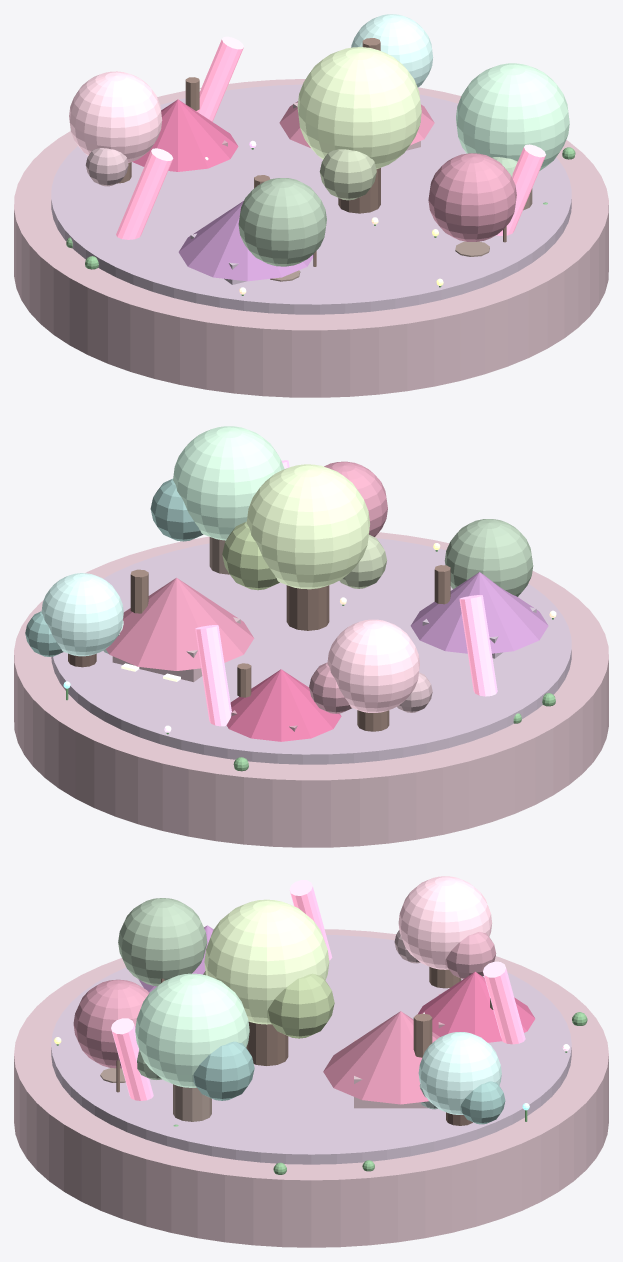
File: 02_zuckerwald.glb
3 views of the same model, one above another, from view 1: azimuth 30°, elevation 25°; view 2: azimuth 150°, elevation 25°; view 3: azimuth 270°, elevation 25° (orthographic).
Visible parts, largest first — view 1: IslandBase, GroundLayer, TreeCrown.002, TreeCrown, TreeCrown.001, Balloon, Balloon.001, HouseRoof.001, HouseRoof.002, TreeCrown.003, TreeCrown3.002, CandyCane1 (+5 smaller); view 2: IslandBase, GroundLayer, TreeCrown.002, TreeCrown, HouseRoof, TreeCrown.001, HouseRoof.001, TreeCrown.003, HouseRoof.002, Balloon.001, CandyCane1, CandyCane0 (+12 smaller); view 3: IslandBase, GroundLayer, TreeCrown.002, TreeCrown, HouseRoof, TreeCrown.001, Balloon.001, TreeCrown.003, Balloon, HouseRoof.002, TreeCrown2.002, TreeCrown2 (+10 smaller).
Boxes of the visible parts, left/top/right/bottom form: IslandBase: left=14, top=79, right=608, bottom=397; GroundLayer: left=51, top=84, right=571, bottom=314; TreeCrown.002: left=297, top=47, right=421, bottom=169; TreeCrown: left=456, top=63, right=569, bottom=170; TreeCrown.001: left=69, top=71, right=162, bottom=162; Balloon: left=428, top=153, right=516, bottom=241; Balloon.001: left=238, top=178, right=326, bottom=266; HouseRoof.001: left=178, top=201, right=313, bottom=281; HouseRoof.002: left=132, top=99, right=238, bottom=171; TreeCrown.003: left=351, top=14, right=433, bottom=87; TreeCrown3.002: left=319, top=149, right=376, bottom=200; CandyCane1: left=116, top=148, right=173, bottom=239; IslandBase: left=14, top=532, right=608, bottom=847; GroundLayer: left=51, top=538, right=571, bottom=764; TreeCrown.002: left=246, top=464, right=369, bottom=589; TreeCrown: left=173, top=426, right=284, bottom=540; HouseRoof: left=106, top=577, right=254, bottom=670; TreeCrown.001: left=327, top=619, right=419, bottom=712; HouseRoof.001: left=410, top=572, right=548, bottom=653; TreeCrown.003: left=41, top=573, right=123, bottom=656; HouseRoof.002: left=226, top=669, right=341, bottom=741; Balloon.001: left=444, top=519, right=533, bottom=596; CandyCane1: left=459, top=595, right=497, bottom=696; CandyCane0: left=195, top=625, right=231, bottom=726; IslandBase: left=14, top=929, right=608, bottom=1247; GroundLayer: left=51, top=935, right=571, bottom=1164; TreeCrown.002: left=204, top=899, right=329, bottom=1024; TreeCrown: left=135, top=973, right=249, bottom=1087; HouseRoof: left=323, top=1011, right=439, bottom=1104; TreeCrown.001: left=398, top=876, right=492, bottom=969; Balloon.001: left=118, top=898, right=207, bottom=986; TreeCrown.003: left=418, top=1032, right=501, bottom=1114; Balloon: left=73, top=979, right=149, bottom=1068; HouseRoof.002: left=417, top=971, right=535, bottom=1042; TreeCrown2.002: left=268, top=973, right=334, bottom=1038; TreeCrown2: left=193, top=1041, right=254, bottom=1100.
Bounding box in the file's own units: 10 × 4.25 × 10.
